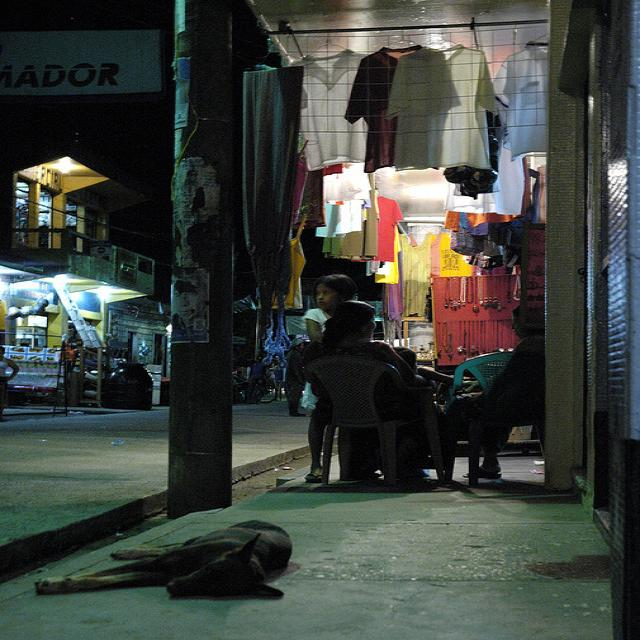dog: (51, 499, 295, 631)
